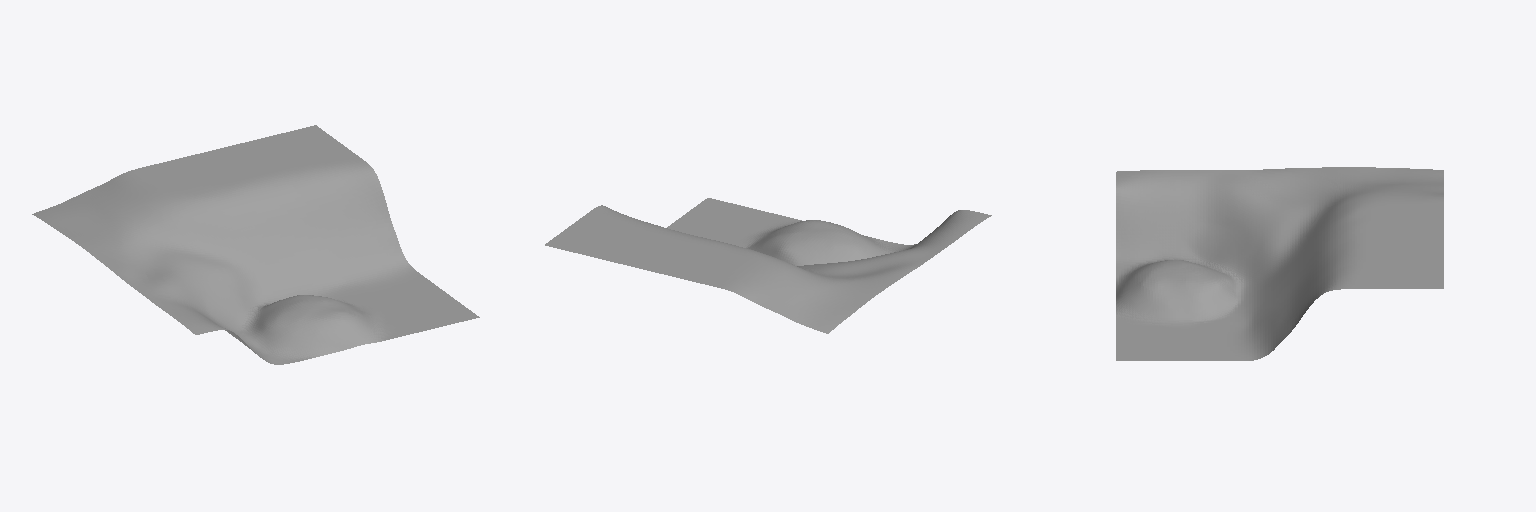
File: small_world2.obj
3 renders of one model, left to right at view 1: azimuth 30°, elevation 25°; view 2: azimuth 150°, elevation 25°; view 3: azimuth 270°, elevation 25°, orthographic.
Visible parts, largest first — view 1: WORLD_Plane.001; view 2: WORLD_Plane.001; view 3: WORLD_Plane.001.
Boxes of the visible parts, x1=… form: WORLD_Plane.001: x1=32, y1=125, x2=479, y2=364; WORLD_Plane.001: x1=545, y1=198, x2=991, y2=333; WORLD_Plane.001: x1=1116, y1=167, x2=1443, y2=360.
Bounding box in the file's own units: 75.87 × 18.45 × 75.94.